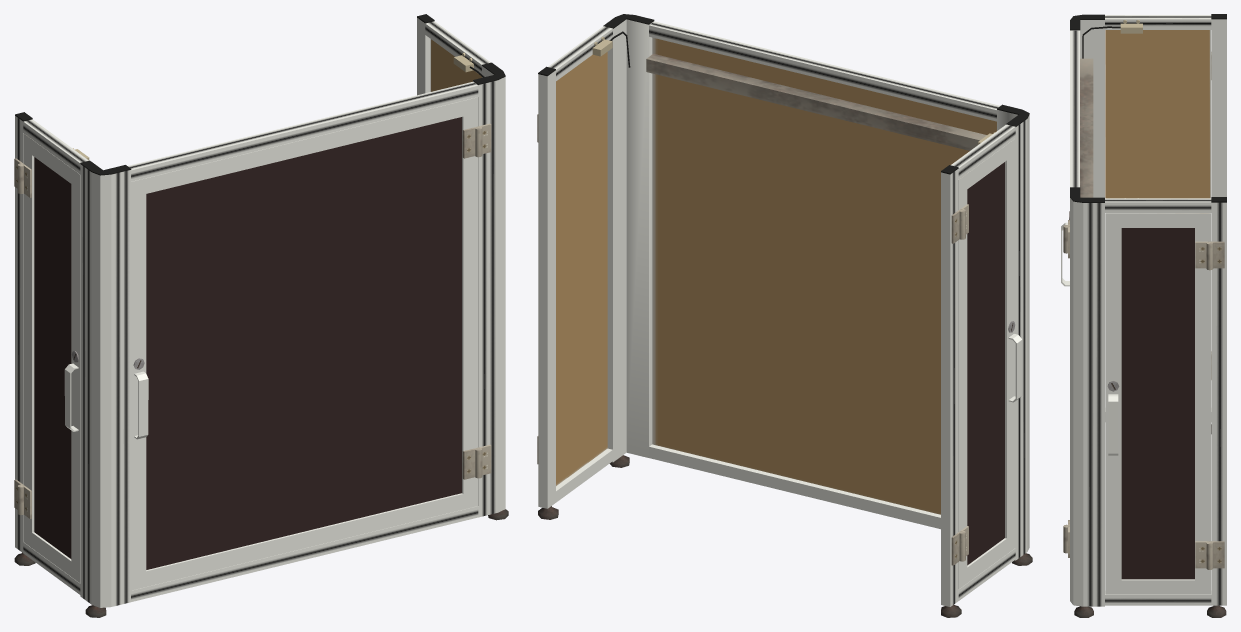
File: kongzhi03_01.fbx
3 renders of one model, left to right at view 1: azimuth 30°, elevation 25°; view 2: azimuth 150°, elevation 25°; view 3: azimuth 270°, elevation 25°, orthographic. The views are drawn at different scales.
Visible parts, largest first — view 1: YF_Model_kongzhi03_01; view 2: YF_Model_kongzhi03_01; view 3: YF_Model_kongzhi03_01.
Part boxes in pixels (<box>): YF_Model_kongzhi03_01: <box>14,14,508,617</box>; YF_Model_kongzhi03_01: <box>537,14,1032,617</box>; YF_Model_kongzhi03_01: <box>1061,14,1226,617</box>.
Size of the model in its own units: 104 by 103 by 37.25.
